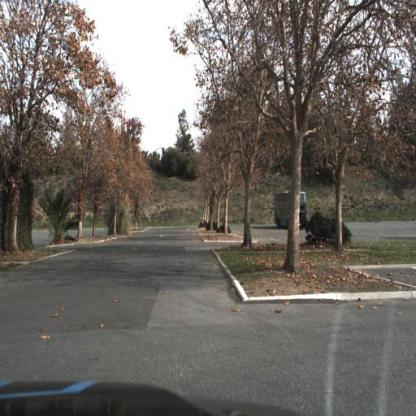truck: (275, 192, 308, 230)
